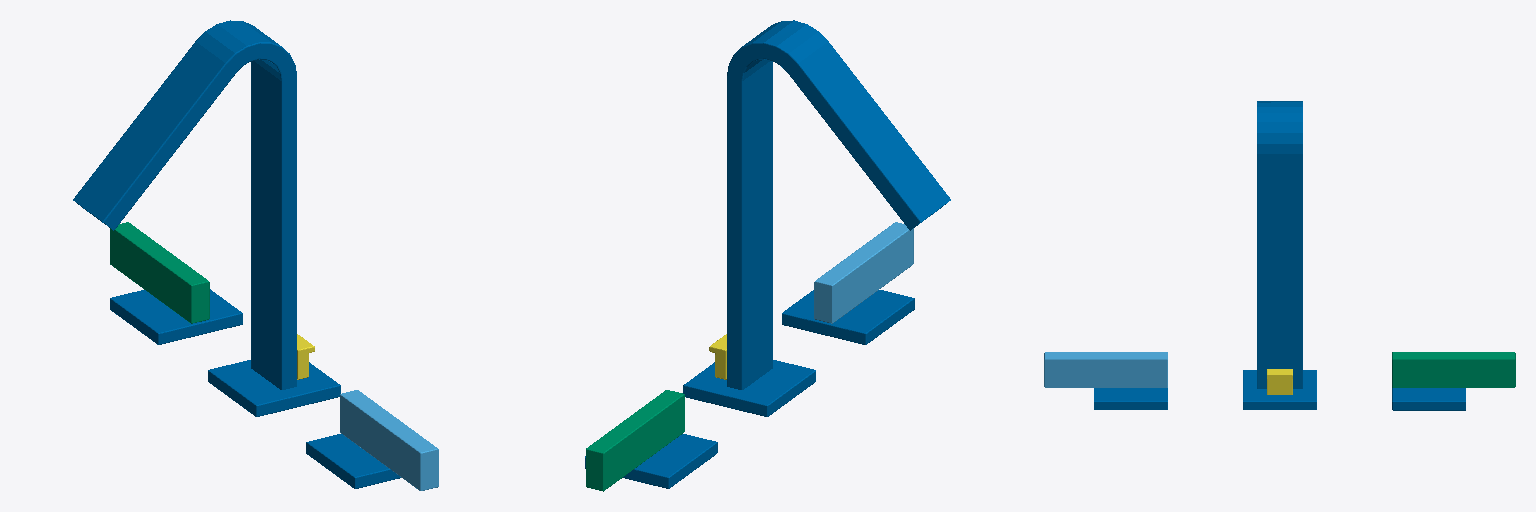
URDF robot description (partnet_110a839cc3fbc8013321831d2245cf06):
<?xml version="1.0" ?>
<robot name="partnet_110a839cc3fbc8013321831d2245cf06">
	<link name="base"/>
	<link name="link_0">
		<visual name="switch-5">
			<origin xyz="-0.5991869999999999 0 0.07047999999999999"/>
			<geometry>
				<mesh filename="textured_objs/original-3.obj"/>
			</geometry>
		</visual>
		<collision>
			<origin xyz="-0.5991869999999999 0 0.07047999999999999"/>
			<geometry>
				<mesh filename="textured_objs/original-3.obj"/>
			</geometry>
		</collision>
	</link>
	<joint name="joint_0" type="revolute">
		<origin xyz="0.5991869999999999 0 -0.07047999999999999"/>
		<axis xyz="0 -1 0"/>
		<child link="link_0"/>
		<parent link="link_3"/>
		<limit lower="-0.0" upper="1.5707963267948966"/>
	</joint>
	<link name="link_1">
		<visual name="switch-6">
			<origin xyz="0.585549 0 0.0716215"/>
			<geometry>
				<mesh filename="textured_objs/original-27.obj"/>
			</geometry>
		</visual>
		<collision>
			<origin xyz="0.585549 0 0.0716215"/>
			<geometry>
				<mesh filename="textured_objs/original-27.obj"/>
			</geometry>
		</collision>
	</link>
	<joint name="joint_1" type="revolute">
		<origin xyz="-0.585549 0 -0.0716215"/>
		<axis xyz="0 1 0"/>
		<child link="link_1"/>
		<parent link="link_3"/>
		<limit lower="0.0" upper="1.5707963267948966"/>
	</joint>
	<link name="link_2">
		<visual name="vertical_support-20">
			<origin xyz="-0.006703499999999987 0 0.070019"/>
			<geometry>
				<mesh filename="textured_objs/original-4.obj"/>
			</geometry>
		</visual>
		<collision>
			<origin xyz="-0.006703499999999987 0 0.070019"/>
			<geometry>
				<mesh filename="textured_objs/original-4.obj"/>
			</geometry>
		</collision>
	</link>
	<joint name="joint_2" type="prismatic">
		<origin xyz="0.006703499999999987 0 -0.070019"/>
		<axis xyz="0 -1 0"/>
		<child link="link_2"/>
		<parent link="link_3"/>
		<limit lower="0" upper="0.08"/>
	</joint>
	<link name="link_3">
		<visual name="tube-9">
			<origin xyz="0 0 0"/>
			<geometry>
				<mesh filename="textured_objs/original-5.obj"/>
			</geometry>
		</visual>
		<visual name="mouth-10">
			<origin xyz="0 0 0"/>
			<geometry>
				<mesh filename="textured_objs/original-7.obj"/>
			</geometry>
		</visual>
		<visual name="mouth-10">
			<origin xyz="0 0 0"/>
			<geometry>
				<mesh filename="textured_objs/original-10.obj"/>
			</geometry>
		</visual>
		<visual name="mouth-10">
			<origin xyz="0 0 0"/>
			<geometry>
				<mesh filename="textured_objs/original-9.obj"/>
			</geometry>
		</visual>
		<visual name="mouth-10">
			<origin xyz="0 0 0"/>
			<geometry>
				<mesh filename="textured_objs/original-20.obj"/>
			</geometry>
		</visual>
		<visual name="mouth-10">
			<origin xyz="0 0 0"/>
			<geometry>
				<mesh filename="textured_objs/original-16.obj"/>
			</geometry>
		</visual>
		<visual name="mouth-10">
			<origin xyz="0 0 0"/>
			<geometry>
				<mesh filename="textured_objs/original-17.obj"/>
			</geometry>
		</visual>
		<visual name="mouth-10">
			<origin xyz="0 0 0"/>
			<geometry>
				<mesh filename="textured_objs/original-18.obj"/>
			</geometry>
		</visual>
		<visual name="mouth-10">
			<origin xyz="0 0 0"/>
			<geometry>
				<mesh filename="textured_objs/original-12.obj"/>
			</geometry>
		</visual>
		<visual name="mouth-10">
			<origin xyz="0 0 0"/>
			<geometry>
				<mesh filename="textured_objs/original-15.obj"/>
			</geometry>
		</visual>
		<visual name="mouth-10">
			<origin xyz="0 0 0"/>
			<geometry>
				<mesh filename="textured_objs/original-14.obj"/>
			</geometry>
		</visual>
		<visual name="mouth-10">
			<origin xyz="0 0 0"/>
			<geometry>
				<mesh filename="textured_objs/original-13.obj"/>
			</geometry>
		</visual>
		<visual name="mouth-10">
			<origin xyz="0 0 0"/>
			<geometry>
				<mesh filename="textured_objs/original-8.obj"/>
			</geometry>
		</visual>
		<visual name="mouth-10">
			<origin xyz="0 0 0"/>
			<geometry>
				<mesh filename="textured_objs/original-19.obj"/>
			</geometry>
		</visual>
		<visual name="mouth-10">
			<origin xyz="0 0 0"/>
			<geometry>
				<mesh filename="textured_objs/original-21.obj"/>
			</geometry>
		</visual>
		<visual name="mouth-10">
			<origin xyz="0 0 0"/>
			<geometry>
				<mesh filename="textured_objs/original-23.obj"/>
			</geometry>
		</visual>
		<visual name="mouth-10">
			<origin xyz="0 0 0"/>
			<geometry>
				<mesh filename="textured_objs/original-24.obj"/>
			</geometry>
		</visual>
		<visual name="mouth-10">
			<origin xyz="0 0 0"/>
			<geometry>
				<mesh filename="textured_objs/original-22.obj"/>
			</geometry>
		</visual>
		<visual name="mouth-10">
			<origin xyz="0 0 0"/>
			<geometry>
				<mesh filename="textured_objs/original-11.obj"/>
			</geometry>
		</visual>
		<visual name="surface_base-22">
			<origin xyz="0 0 0"/>
			<geometry>
				<mesh filename="textured_objs/original-25.obj"/>
			</geometry>
		</visual>
		<visual name="surface_base-21">
			<origin xyz="0 0 0"/>
			<geometry>
				<mesh filename="textured_objs/original-1.obj"/>
			</geometry>
		</visual>
		<visual name="surface_base-19">
			<origin xyz="0 0 0"/>
			<geometry>
				<mesh filename="textured_objs/original-6.obj"/>
			</geometry>
		</visual>
		<collision>
			<origin xyz="0 0 0"/>
			<geometry>
				<mesh filename="textured_objs/original-5.obj"/>
			</geometry>
		</collision>
		<collision>
			<origin xyz="0 0 0"/>
			<geometry>
				<mesh filename="textured_objs/original-7.obj"/>
			</geometry>
		</collision>
		<collision>
			<origin xyz="0 0 0"/>
			<geometry>
				<mesh filename="textured_objs/original-10.obj"/>
			</geometry>
		</collision>
		<collision>
			<origin xyz="0 0 0"/>
			<geometry>
				<mesh filename="textured_objs/original-9.obj"/>
			</geometry>
		</collision>
		<collision>
			<origin xyz="0 0 0"/>
			<geometry>
				<mesh filename="textured_objs/original-20.obj"/>
			</geometry>
		</collision>
		<collision>
			<origin xyz="0 0 0"/>
			<geometry>
				<mesh filename="textured_objs/original-16.obj"/>
			</geometry>
		</collision>
		<collision>
			<origin xyz="0 0 0"/>
			<geometry>
				<mesh filename="textured_objs/original-17.obj"/>
			</geometry>
		</collision>
		<collision>
			<origin xyz="0 0 0"/>
			<geometry>
				<mesh filename="textured_objs/original-18.obj"/>
			</geometry>
		</collision>
		<collision>
			<origin xyz="0 0 0"/>
			<geometry>
				<mesh filename="textured_objs/original-12.obj"/>
			</geometry>
		</collision>
		<collision>
			<origin xyz="0 0 0"/>
			<geometry>
				<mesh filename="textured_objs/original-15.obj"/>
			</geometry>
		</collision>
		<collision>
			<origin xyz="0 0 0"/>
			<geometry>
				<mesh filename="textured_objs/original-14.obj"/>
			</geometry>
		</collision>
		<collision>
			<origin xyz="0 0 0"/>
			<geometry>
				<mesh filename="textured_objs/original-13.obj"/>
			</geometry>
		</collision>
		<collision>
			<origin xyz="0 0 0"/>
			<geometry>
				<mesh filename="textured_objs/original-8.obj"/>
			</geometry>
		</collision>
		<collision>
			<origin xyz="0 0 0"/>
			<geometry>
				<mesh filename="textured_objs/original-19.obj"/>
			</geometry>
		</collision>
		<collision>
			<origin xyz="0 0 0"/>
			<geometry>
				<mesh filename="textured_objs/original-21.obj"/>
			</geometry>
		</collision>
		<collision>
			<origin xyz="0 0 0"/>
			<geometry>
				<mesh filename="textured_objs/original-23.obj"/>
			</geometry>
		</collision>
		<collision>
			<origin xyz="0 0 0"/>
			<geometry>
				<mesh filename="textured_objs/original-24.obj"/>
			</geometry>
		</collision>
		<collision>
			<origin xyz="0 0 0"/>
			<geometry>
				<mesh filename="textured_objs/original-22.obj"/>
			</geometry>
		</collision>
		<collision>
			<origin xyz="0 0 0"/>
			<geometry>
				<mesh filename="textured_objs/original-11.obj"/>
			</geometry>
		</collision>
		<collision>
			<origin xyz="0 0 0"/>
			<geometry>
				<mesh filename="textured_objs/original-25.obj"/>
			</geometry>
		</collision>
		<collision>
			<origin xyz="0 0 0"/>
			<geometry>
				<mesh filename="textured_objs/original-1.obj"/>
			</geometry>
		</collision>
		<collision>
			<origin xyz="0 0 0"/>
			<geometry>
				<mesh filename="textured_objs/original-6.obj"/>
			</geometry>
		</collision>
	</link>
	<joint name="joint_3" type="fixed">
		<origin rpy="1.570796326794897 0 -1.570796326794897" xyz="0 0 0"/>
		<child link="link_3"/>
		<parent link="base"/>
	</joint>
</robot>

--- What the picture shows (computed from the rendered views, not written in the file) ---
The picture shows the robot from 3 angles, left to right: view 1: azimuth 30°, elevation 25°; view 2: azimuth 150°, elevation 25°; view 3: azimuth 270°, elevation 25°; orthographic projection.
Robot: partnet_110a839cc3fbc8013321831d2245cf06 — 5 links, 4 joints (2 revolute, 1 prismatic, 1 fixed); root link base; default pose: every joint at zero.
Visible links, largest first — view 1: link_3, link_1, link_0, link_2; view 2: link_3, link_0, link_1, link_2; view 3: link_3, link_0, link_1, link_2.
Boxes of the visible links, x1=… form: link_3: x1=73, y1=20, x2=400, y2=488; link_1: x1=110, y1=222, x2=209, y2=323; link_0: x1=340, y1=390, x2=438, y2=490; link_2: x1=297, y1=334, x2=314, y2=379; link_3: x1=585, y1=20, x2=950, y2=488; link_0: x1=814, y1=222, x2=913, y2=323; link_1: x1=586, y1=390, x2=684, y2=491; link_2: x1=709, y1=334, x2=726, y2=379; link_3: x1=1094, y1=101, x2=1465, y2=410; link_0: x1=1044, y1=352, x2=1167, y2=387; link_1: x1=1392, y1=352, x2=1515, y2=387; link_2: x1=1267, y1=369, x2=1292, y2=394.
Bounding box of the posed robot: 0.798 × 1.87 × 1.21 m (x, y, z).
Meshes: 25 distinct files referenced, 25 mesh visuals loaded (25 OBJ).
